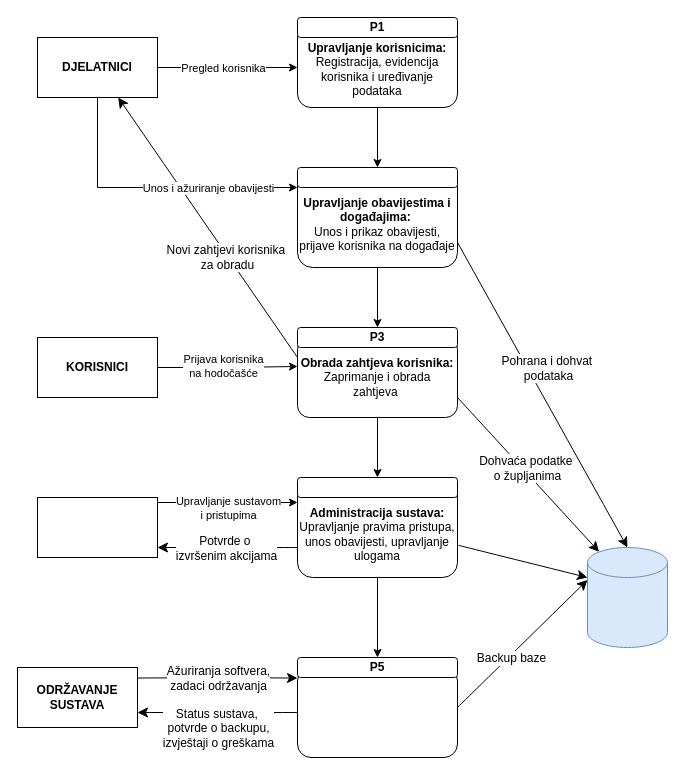
Some shapes in this 685 by 775 pixel diagram are drawn without their labels. Each missing label, with the box of its shape:
ADMINISTRATOR: (36, 496, 158, 558)
Baza podataka: (586, 546, 668, 648)
Održavanje i sigurnosne kopije: Backup podataka, ažuriranja, nadzor rada sustava: (296, 666, 458, 758)
P2: (296, 166, 458, 188)
P4: (296, 476, 458, 498)
